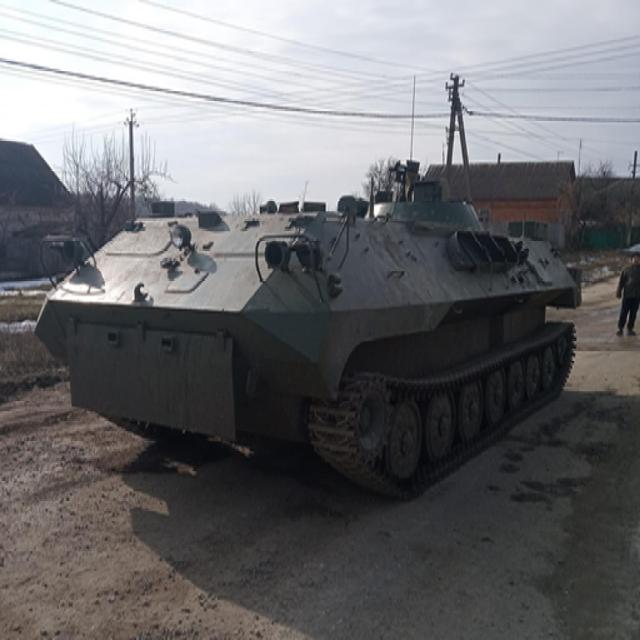APC-IFV: (32, 160, 578, 500)
